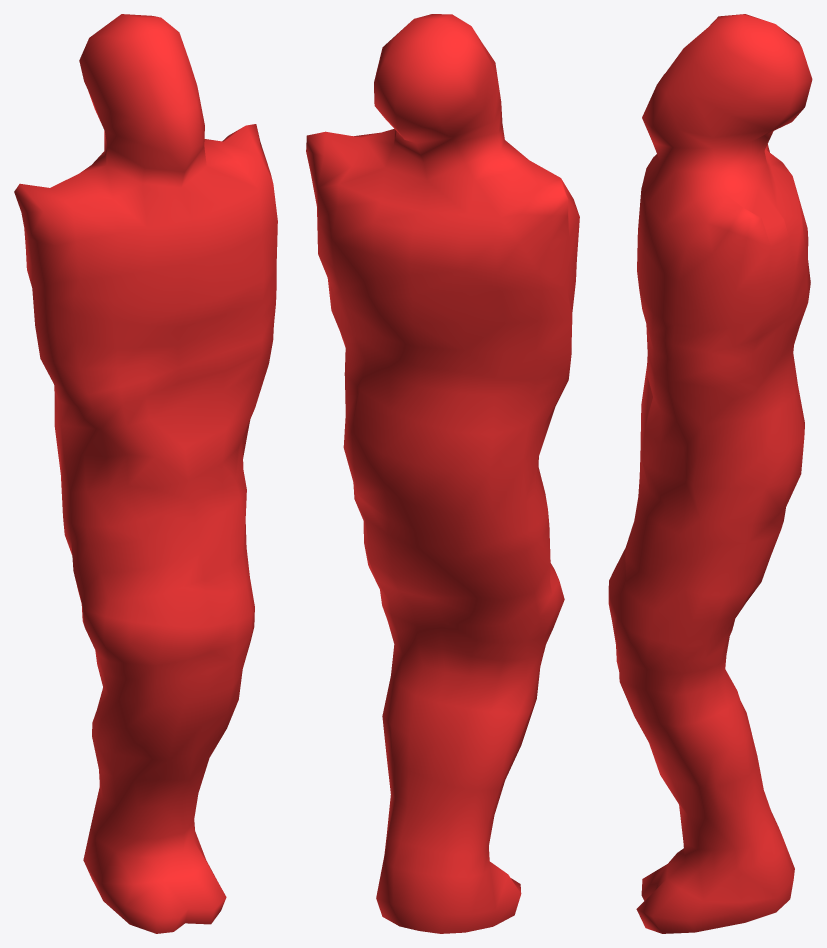
The model's file is bodybags_x1_01.fbx.
3 views of the same model, side by side, from view 1: azimuth 30°, elevation 25°; view 2: azimuth 150°, elevation 25°; view 3: azimuth 270°, elevation 25° (orthographic). The views are drawn at different scales.
Visible parts, largest first — view 1: Box007; view 2: Box007; view 3: Box007.
Boxes of the visible parts, x1,y1,x2,y2 form: Box007: (14,14,277,933); Box007: (306,14,579,933); Box007: (608,14,812,933).
Size of the model in its own units: 89.57 by 302 by 62.09.
